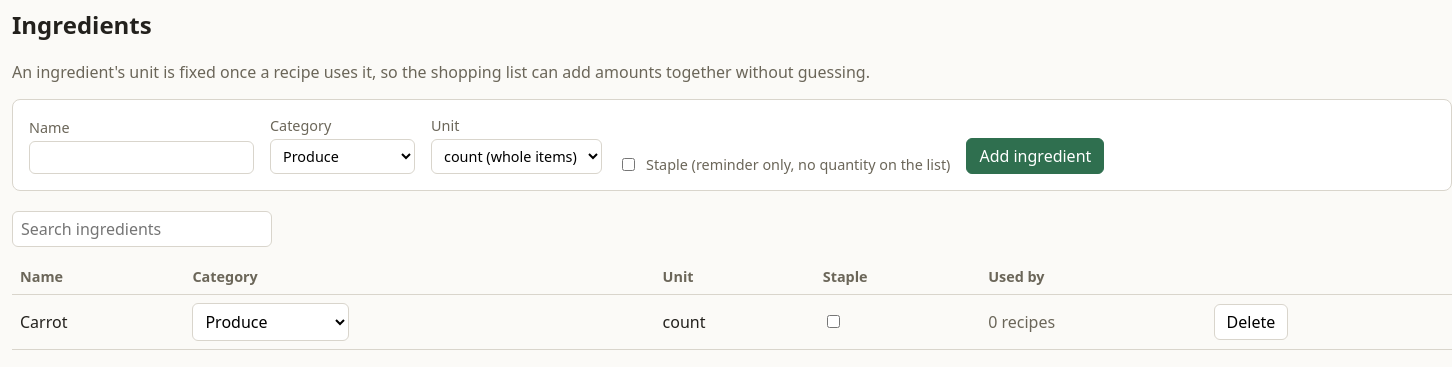
IngredientsPage › shows a newly created ingredient that matches the active search filter
Expected: the text "Carrot" is shown, [12,294,184,349]
Type "on" into the field with placeholder "Search ingredients".
click(142, 229); type("on")  # box [12,211,272,247]
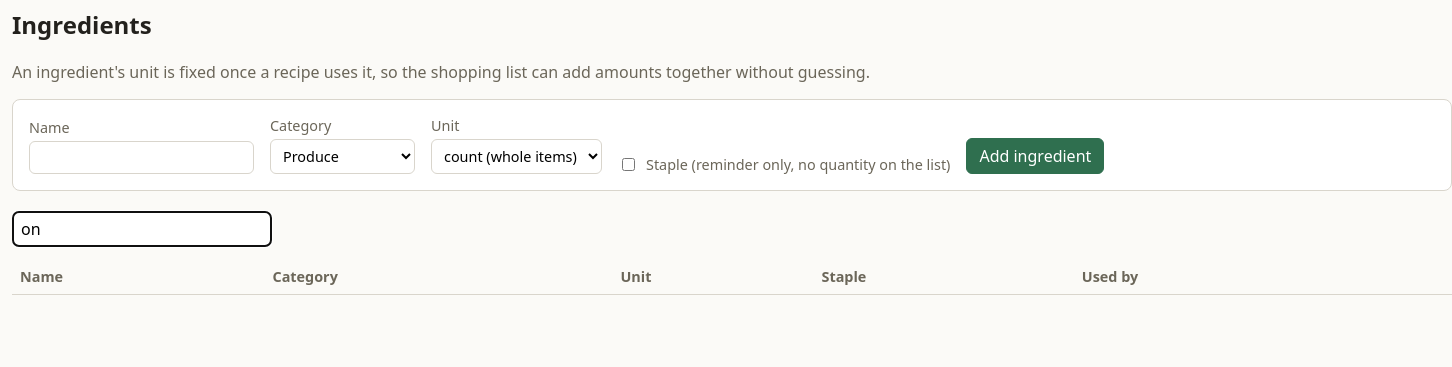
Now the text "Carrot" is gone
Type "Onion" into the field labelled "Name".
click(142, 157); type("Onion")  # box [29,141,254,174]
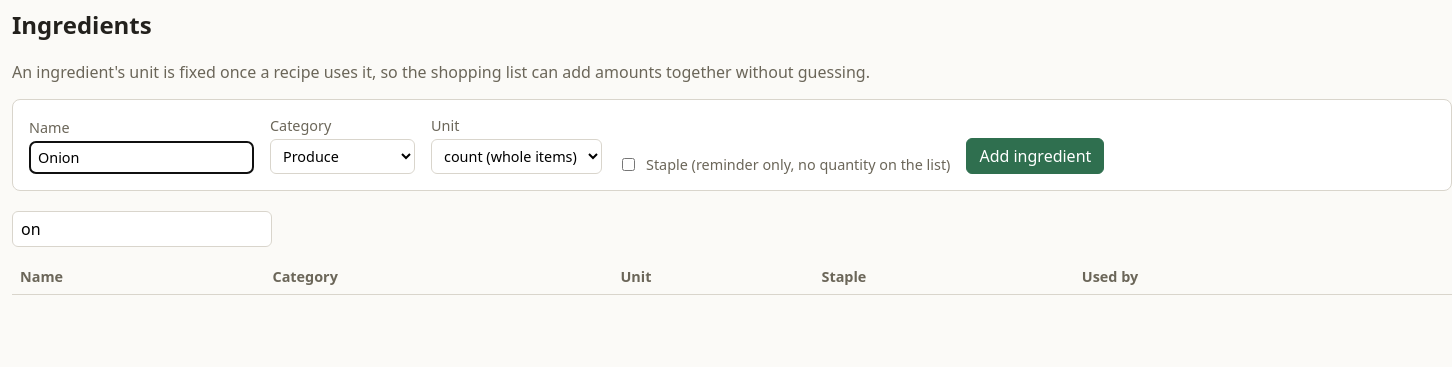
Click the button "Add ingredient".
click(1035, 156)  # box [966,138,1104,174]
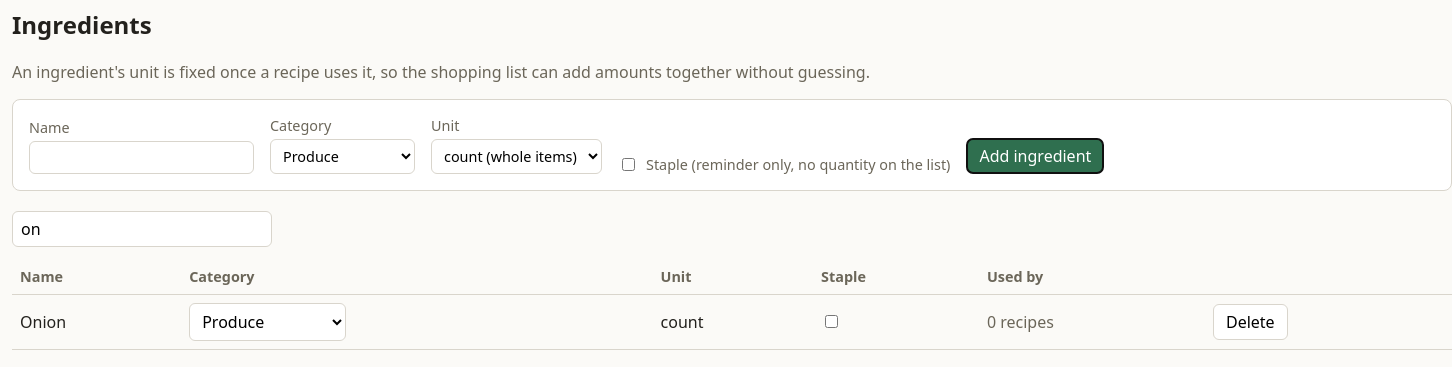
Now the text "Onion" is shown, box [12,294,181,349]
